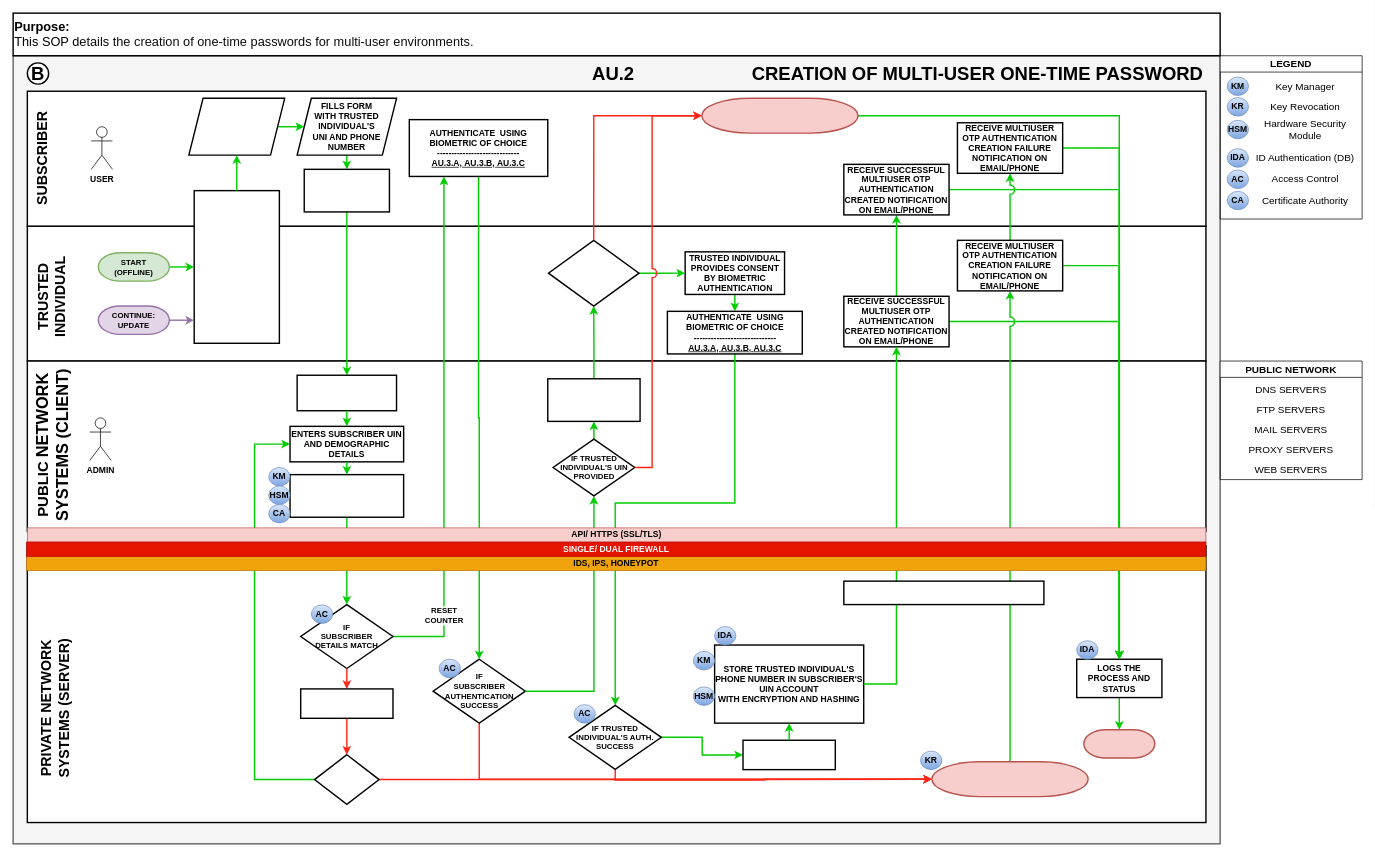
The diagram is 1375 pixels wide and 856 high, and some of its shapes have lost their labels. The centre of each missing label's shape, as x and y in pixels:
BIND AND ACTIVATE MULTIUSER OTP AUTHENTICATOR: the point at 789,754
END: the point at 1119,743
EXCEPTION AND ERROR HANDLING (COUNTER): the point at 346,703
FILLS FORM WITH UIN AND DEMOGRAPHIC DETAILS: the point at 236,126
IF RETRY COUNT<=3: the point at 346,779
IF TRUSTED INDIVIDUAL'S AGREES TO CONSENT: the point at 593,272
MASKING & ENCRYPT UIN AND DEMOGRAPHIC DETAILS FOR AUTHENTICATION: the point at 346,496
NOTIFICATION GENERATOR: the point at 943,592
RECEIVE MULTIUSER OTP APPLICATION FORM: the point at 346,392
REQUEST CONSENT FROM TRUSTED INDIVIDUAL: the point at 593,400
SUBMIT APPLICATION FORM: the point at 346,190
TERMINATE PROCESS: the point at 779,115
TERMINATE PROCESS: LOCK UIN ACCOUNT FOR 24 HOURS: the point at 1010,779
VISIT DID CENTER & COLLECT APPLICATION FORM FOR MULTIUSER OTP: the point at 236,267
